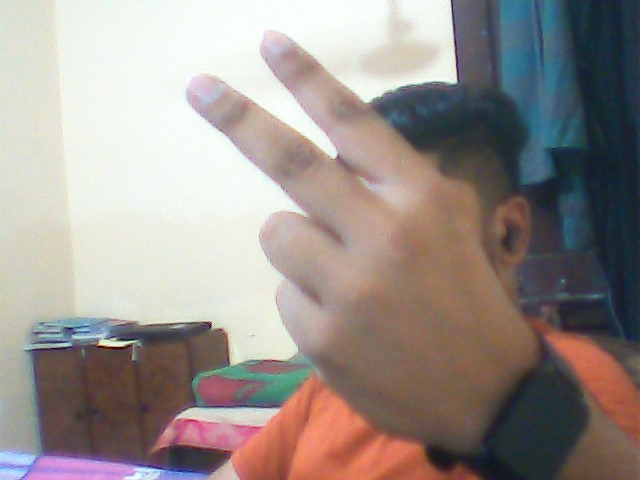Please: (164, 23, 543, 444)
